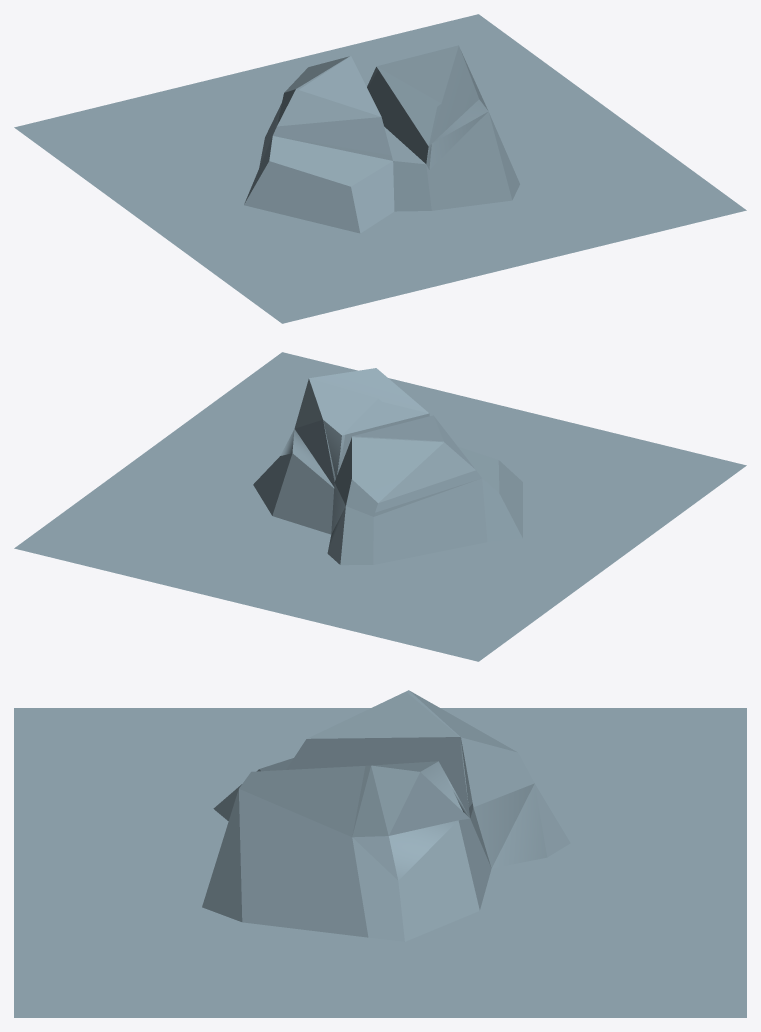
File: Tile 56_Combined.fbx
The picture shows the model from 3 angles, top to bottom: view 1: azimuth 30°, elevation 25°; view 2: azimuth 150°, elevation 25°; view 3: azimuth 270°, elevation 25°; orthographic projection. The views are drawn at different scales.
Visible parts, largest first — view 1: MeshBaker_mesh_mesh; view 2: MeshBaker_mesh_mesh; view 3: MeshBaker_mesh_mesh.
Part boxes in pixels (left/top/right/bottom): MeshBaker_mesh_mesh: left=14, top=14, right=746, bottom=323; MeshBaker_mesh_mesh: left=14, top=352, right=746, bottom=661; MeshBaker_mesh_mesh: left=14, top=690, right=746, bottom=1017.
Size of the model in its own units: 3000 by 666 by 3000.
